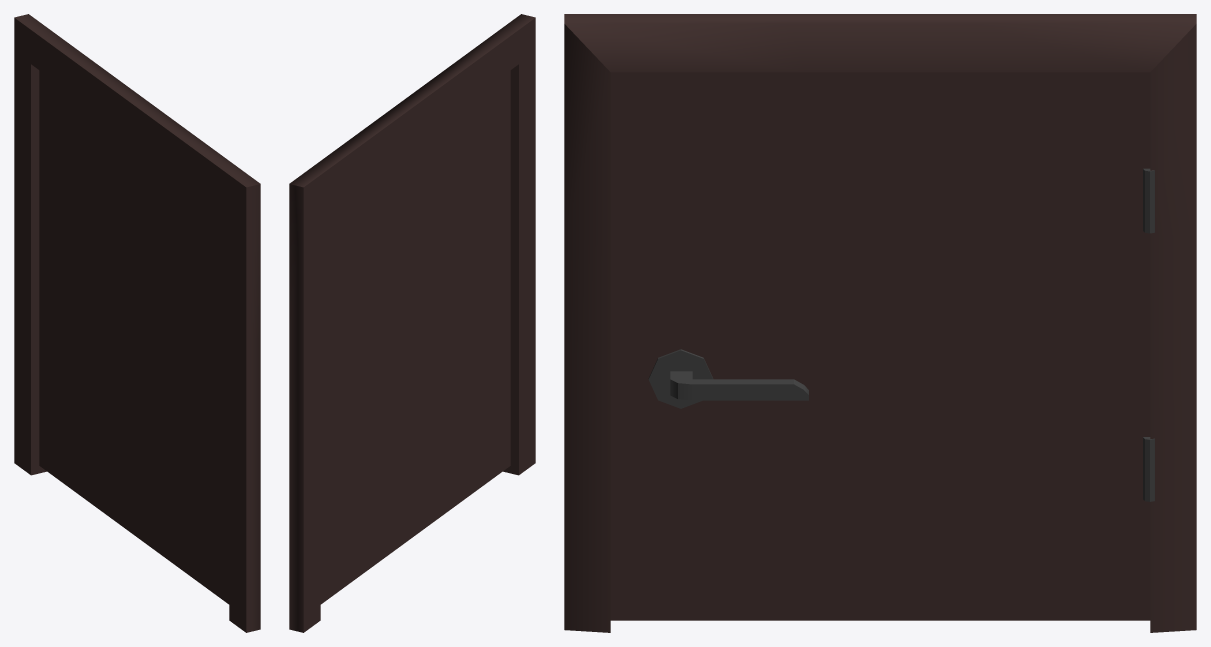
File: door_geo.fbx
The picture shows the model from 3 angles, left to right: view 1: azimuth 30°, elevation 25°; view 2: azimuth 150°, elevation 25°; view 3: azimuth 270°, elevation 25°; orthographic projection. The views are drawn at different scales.
Visible parts, largest first — view 1: door_geo; view 2: door_geo; view 3: door_geo.
Part boxes in pixels (left/top/right/bottom): door_geo: left=14, top=14, right=260, bottom=632; door_geo: left=289, top=14, right=535, bottom=632; door_geo: left=564, top=14, right=1196, bottom=632.
Size of the model in its own units: 0.2478 by 2.84 by 2.68.
1 material, 1 textured.
